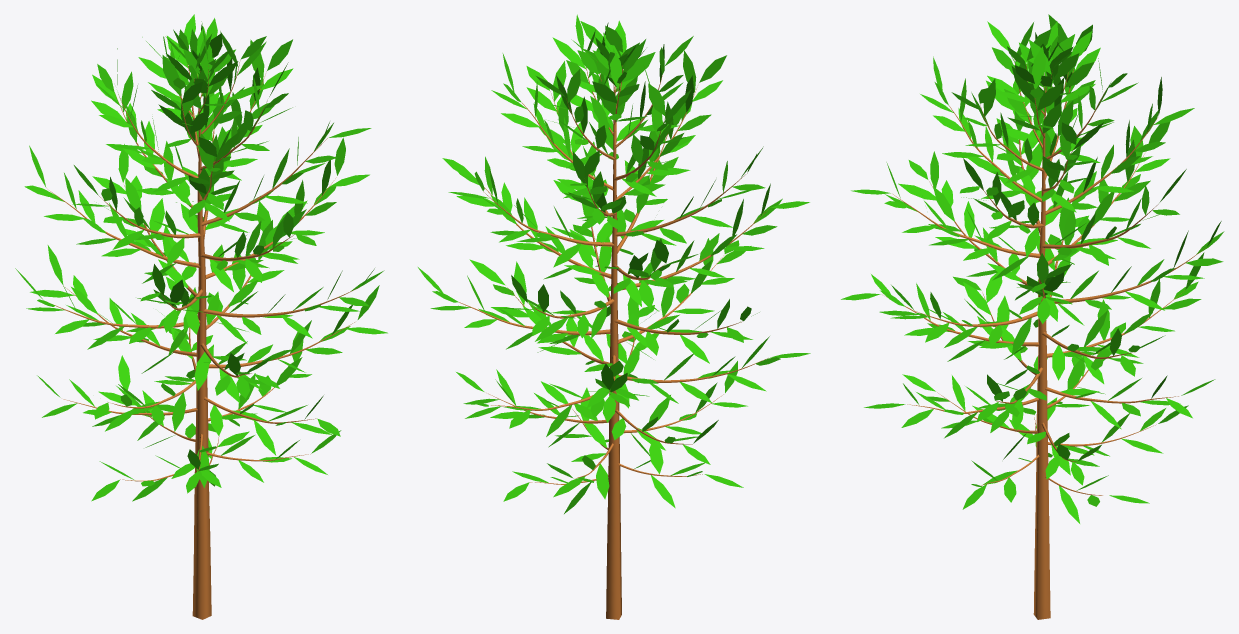
The model's file is Tree.fbx.
The picture shows the model from 3 angles, left to right: view 1: azimuth 30°, elevation 25°; view 2: azimuth 150°, elevation 25°; view 3: azimuth 270°, elevation 25°; orthographic projection.
Parts seen in each view (by area): view 1: leaves, Tree001; view 2: leaves, Tree001; view 3: leaves, Tree001.
Part boxes in pixels (<box>): leaves: <box>15,14,387,501</box>; Tree001: <box>49,58,359,619</box>; leaves: <box>418,14,810,513</box>; Tree001: <box>459,53,769,619</box>; leaves: <box>841,14,1224,523</box>; Tree001: <box>887,55,1205,619</box>.
Size of the model in its own units: 742 by 1287 by 761.
